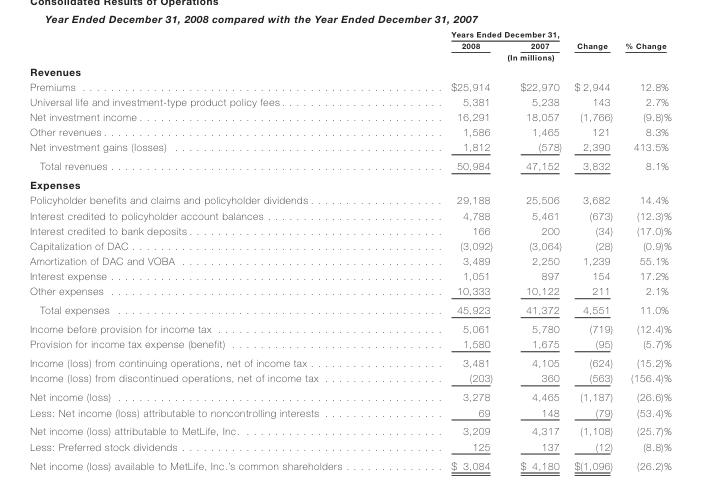table: (29, 29, 670, 470)
table column: (29, 29, 395, 470), (395, 29, 505, 470), (505, 29, 567, 470), (618, 29, 670, 470), (567, 29, 618, 470)
table column header: (29, 29, 670, 62)
table projected row header: (29, 174, 670, 192), (29, 62, 670, 78)
table row: (29, 300, 670, 319), (29, 156, 670, 174), (29, 174, 670, 192), (29, 139, 670, 156), (29, 283, 670, 300), (29, 319, 670, 336), (29, 336, 670, 353), (29, 353, 670, 370), (29, 370, 670, 387), (29, 387, 670, 404), (29, 404, 670, 421), (29, 421, 670, 438), (29, 438, 670, 455), (29, 62, 670, 78), (29, 108, 670, 124), (29, 252, 670, 268), (29, 78, 670, 93), (29, 93, 670, 108), (29, 124, 670, 139), (29, 192, 670, 207), (29, 207, 670, 222), (29, 222, 670, 237), (29, 237, 670, 252), (29, 268, 670, 283), (29, 455, 670, 470), (29, 50, 670, 62), (29, 39, 670, 50), (29, 29, 670, 39)
table spanning cell: (395, 50, 618, 62), (395, 29, 567, 39), (618, 29, 670, 62), (567, 29, 618, 50)
